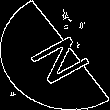N_NE: (17, 25, 93, 85)
